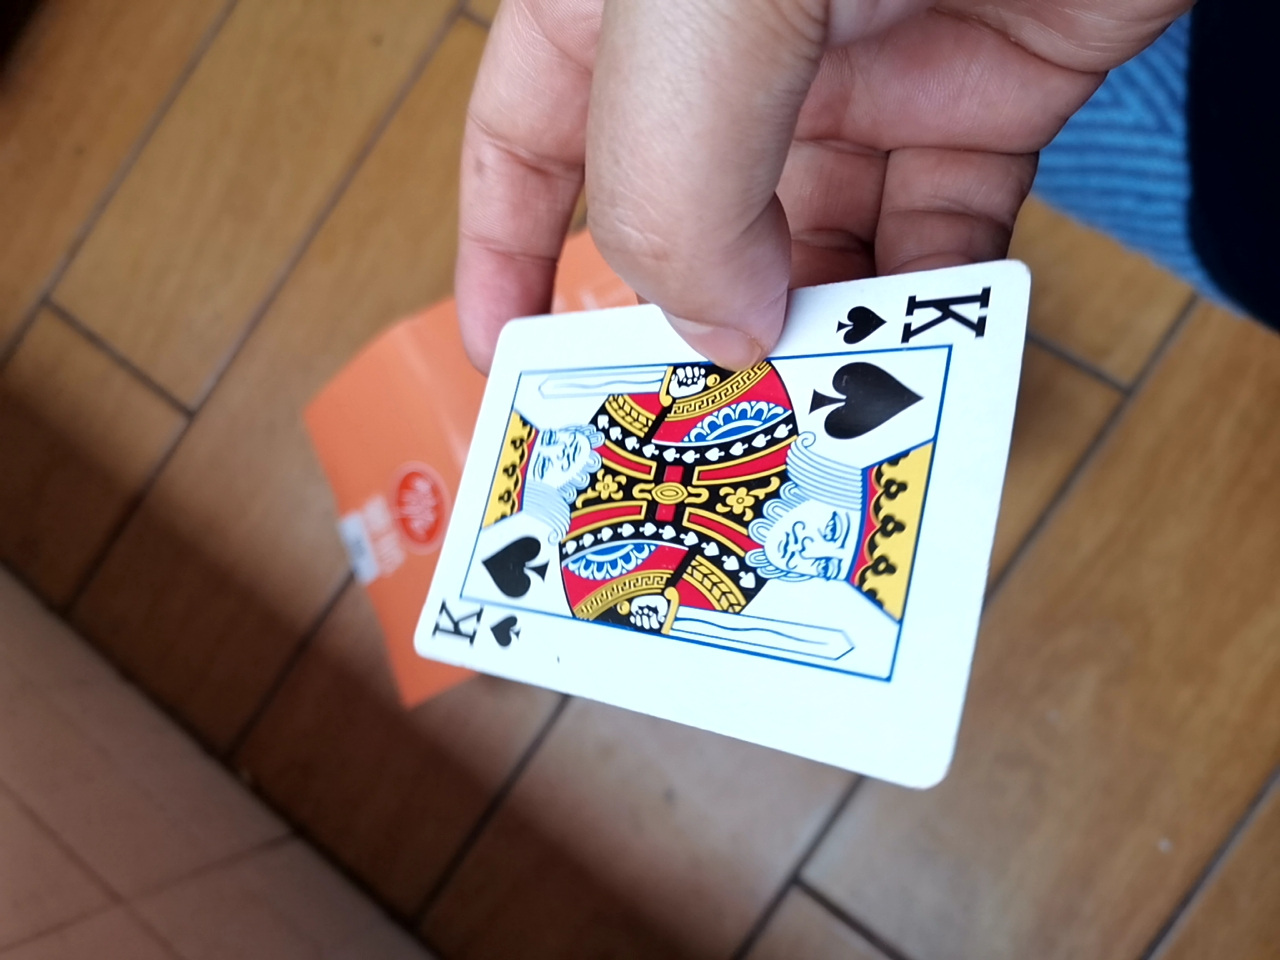ht k: (383, 258, 1025, 789)
